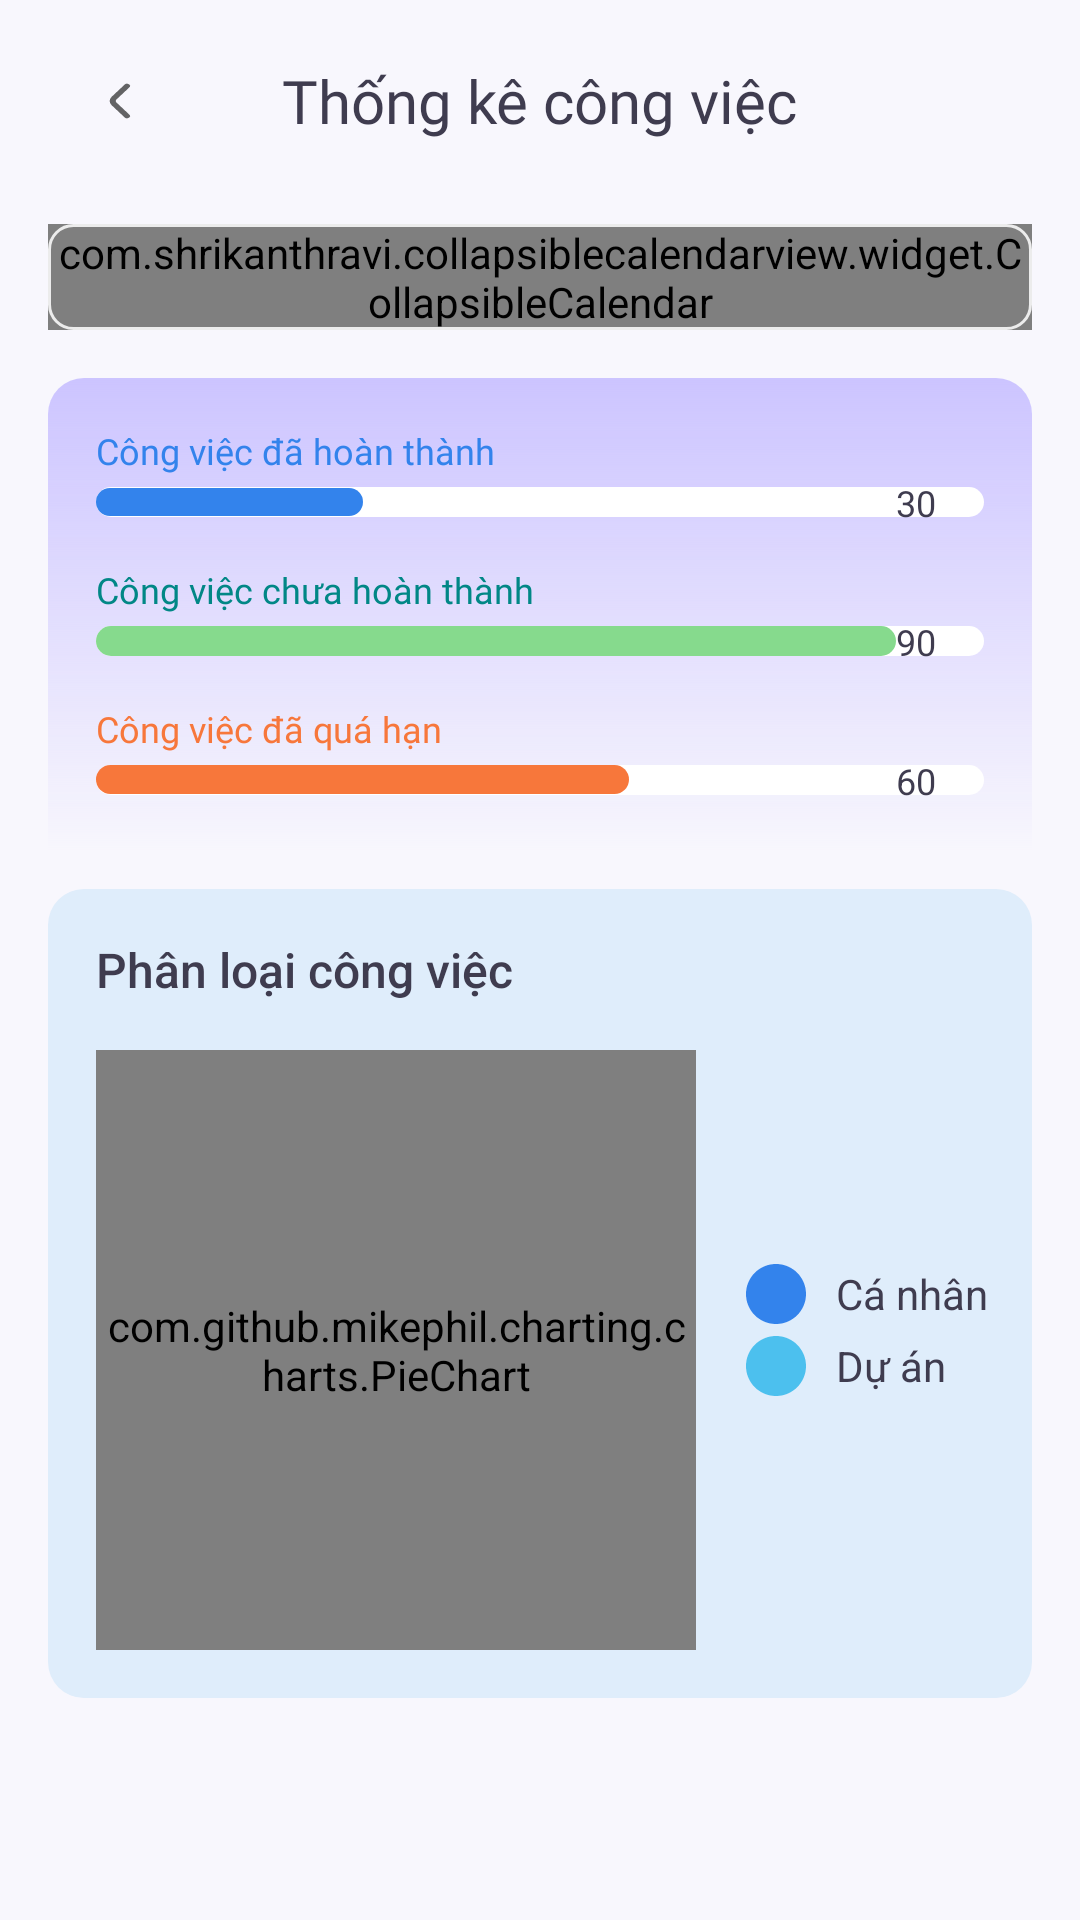

Screen size 1080px x 1920px. Icon name, then its center in pixels as (x,y):
back: (119,101)
